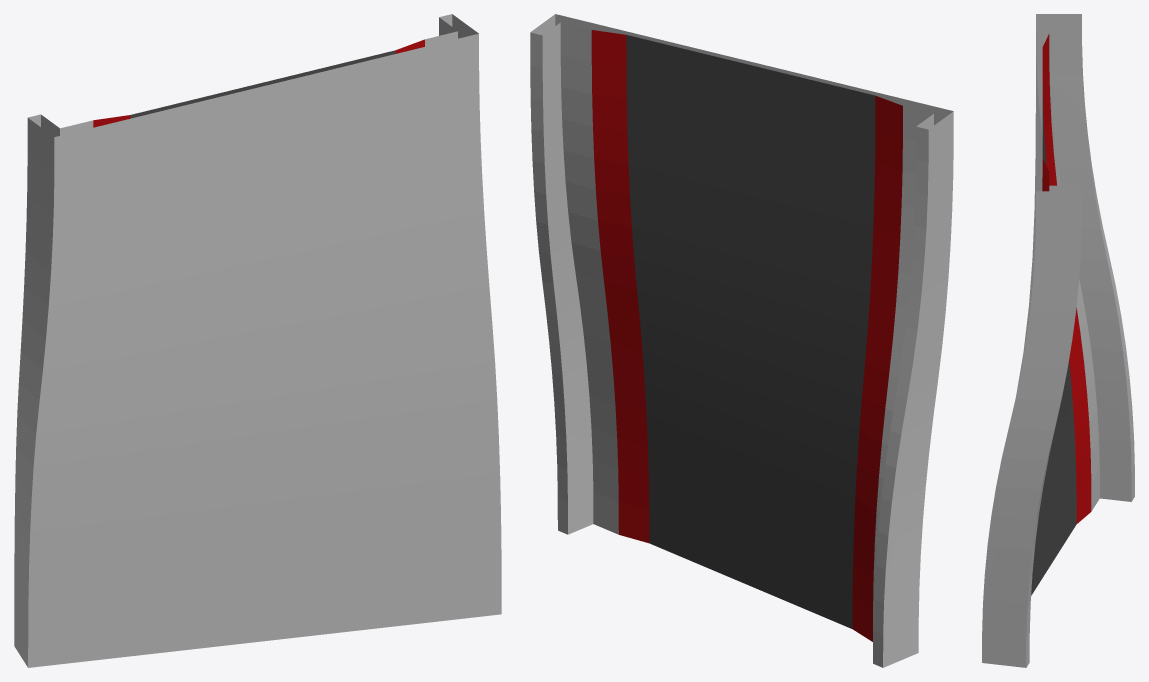
The model's file is Transition_Right_Pitch1.fbx.
The picture shows the model from 3 angles, left to right: view 1: azimuth 30°, elevation 25°; view 2: azimuth 150°, elevation 25°; view 3: azimuth 270°, elevation 25°; orthographic projection. The views are drawn at different scales.
Visible parts, largest first — view 1: Transition_Right_Pitch1; view 2: Transition_Right_Pitch1; view 3: Transition_Right_Pitch1.
Part boxes in pixels (x1,y1,x2,y2): Transition_Right_Pitch1: [14, 14, 501, 667]; Transition_Right_Pitch1: [530, 14, 953, 667]; Transition_Right_Pitch1: [982, 14, 1134, 667].
Size of the model in its own units: 1291 by 1600 by 467.
